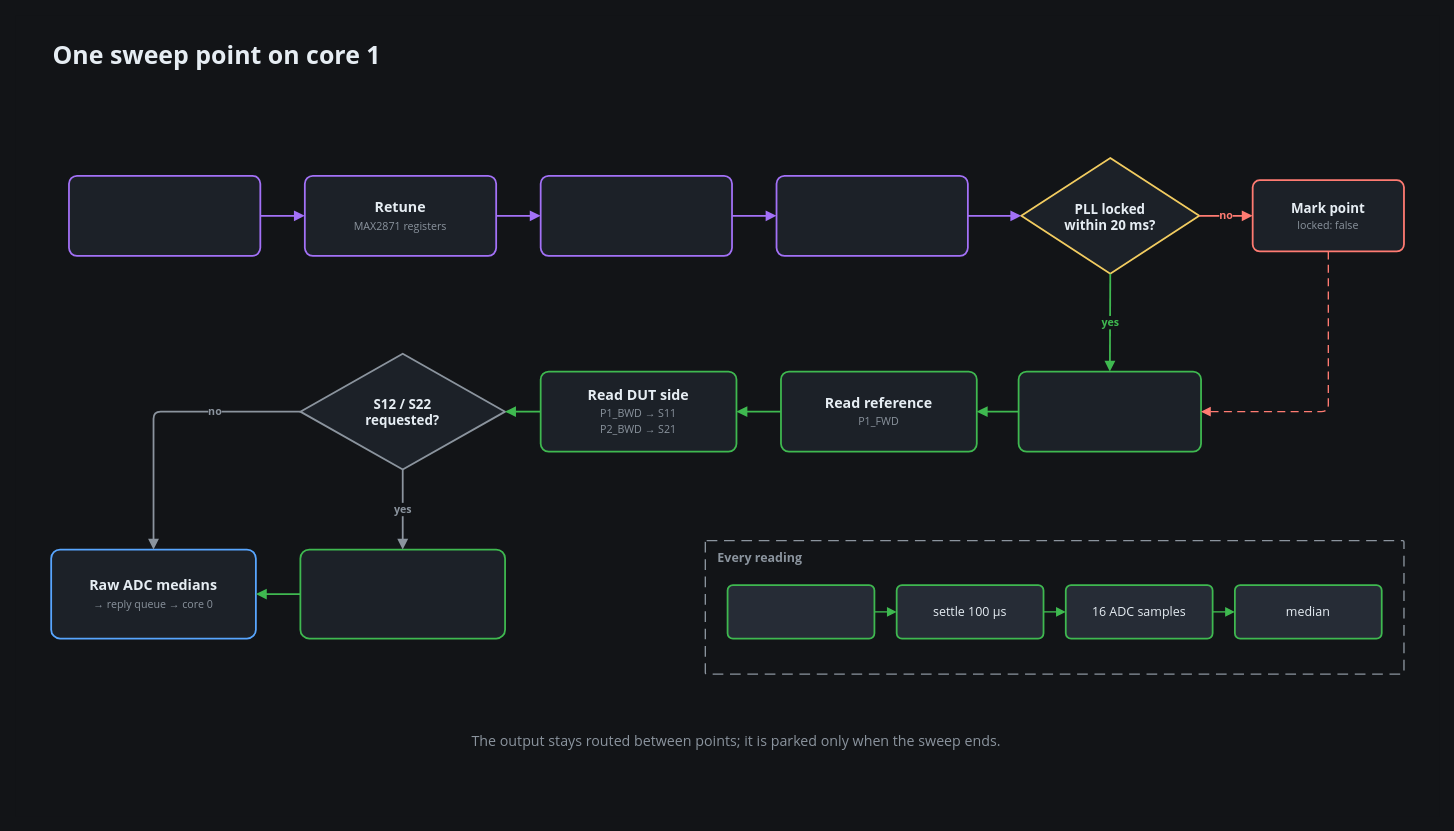
The diagram is 1454 pixels wide and 831 high, and some of its shapes have lost their labels. The shapes that lost their labels are listed below. From the top down, each one's box as (x1, y1, x2, y2) in pixels, then its label:
(68, 174, 261, 256): Select LPF for frequency f
(539, 174, 732, 256): Route source switch port, then release attenuator
(775, 174, 968, 256): Select path first coupler path
(1017, 370, 1202, 452): Detector settle 200 µs
(299, 548, 506, 639): Source → port 2 read P2_FWD, P2_BWD, P1_BWD
(726, 584, 875, 639): select coupler path
